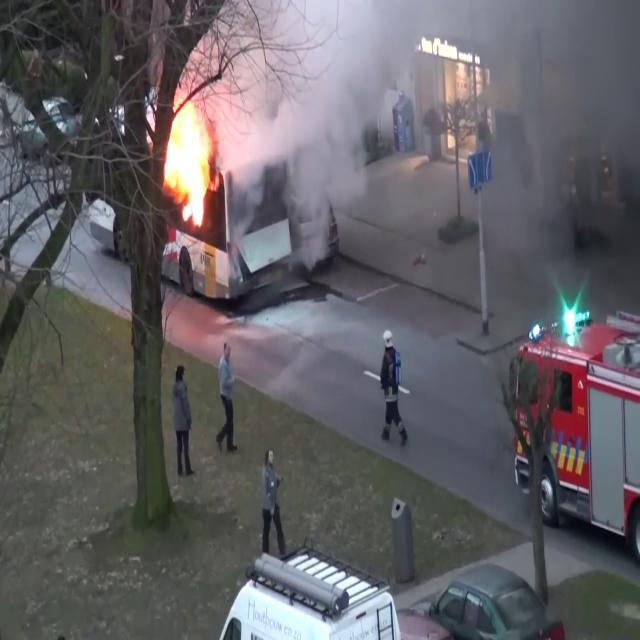Fire: (160, 95, 220, 234)
Smoke: (216, 0, 429, 254), (474, 0, 640, 301)
